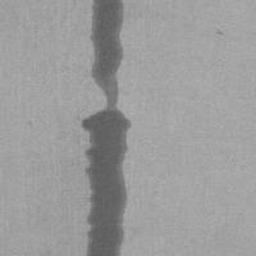Water spot: (81, 0, 133, 256), (216, 28, 225, 37)
